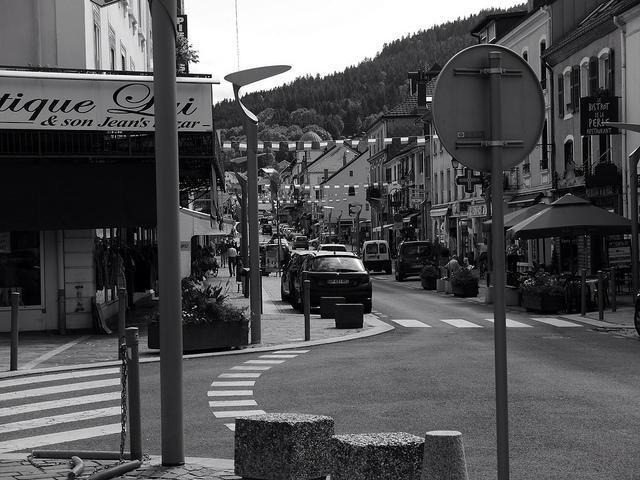car: (293, 250, 373, 314), (281, 252, 308, 304), (315, 244, 348, 253), (292, 236, 311, 250), (308, 236, 320, 246), (281, 225, 291, 233)
truck: (394, 240, 438, 282), (360, 239, 395, 275)
